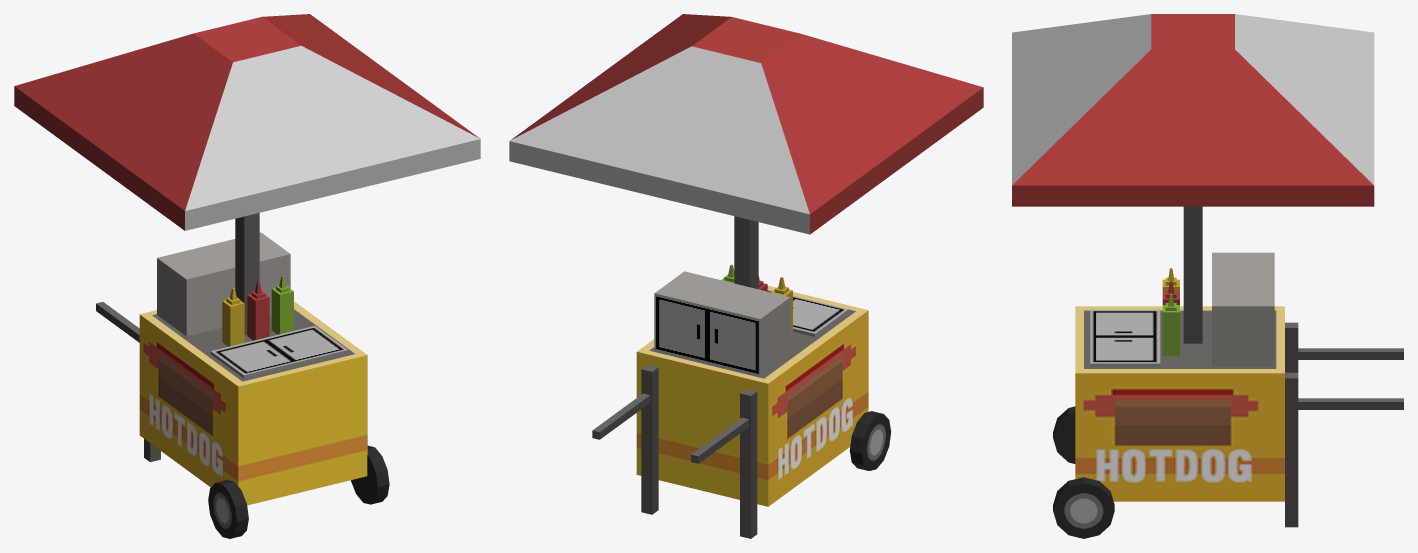
Rendered from SM_HotDog_Cart_01.fbx.
The picture shows the model from 3 angles, left to right: view 1: azimuth 30°, elevation 25°; view 2: azimuth 150°, elevation 25°; view 3: azimuth 270°, elevation 25°; orthographic projection. The views are drawn at different scales.
Visible parts, largest first — view 1: SM_HotDog_Cart_01; view 2: SM_HotDog_Cart_01; view 3: SM_HotDog_Cart_01.
Part boxes in pixels (x1=…): SM_HotDog_Cart_01: x1=14, y1=14, x2=480, y2=538; SM_HotDog_Cart_01: x1=509, y1=14, x2=983, y2=538; SM_HotDog_Cart_01: x1=1012, y1=14, x2=1403, y2=538.
Size of the model in its own units: 3.2 by 4.57 by 3.47.
